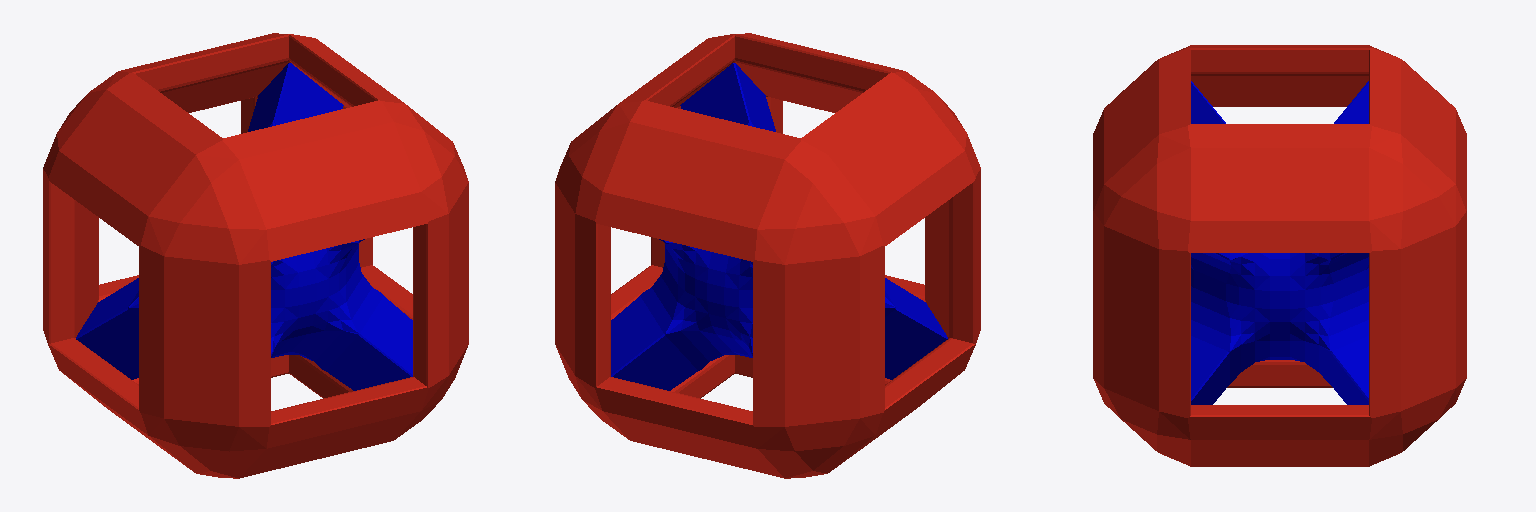
File: two_submeshes.obj
The picture shows the model from 3 angles: view 1: azimuth 30°, elevation 25°; view 2: azimuth 150°, elevation 25°; view 3: azimuth 270°, elevation 25°; orthographic projection.
Visible parts, largest first — view 1: Cube.001; view 2: Cube.001; view 3: Cube.001.
Boxes of the visible parts, <box> form: Cube.001: <box>43,33,468,478</box>; Cube.001: <box>555,33,980,478</box>; Cube.001: <box>1093,45,1466,466</box>.
Bounding box in the file's own units: 1.98 × 1.98 × 1.98.